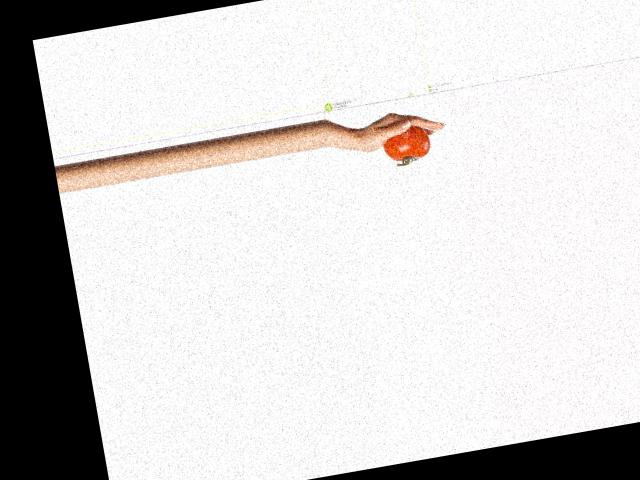tomato: (381, 123, 432, 162)
